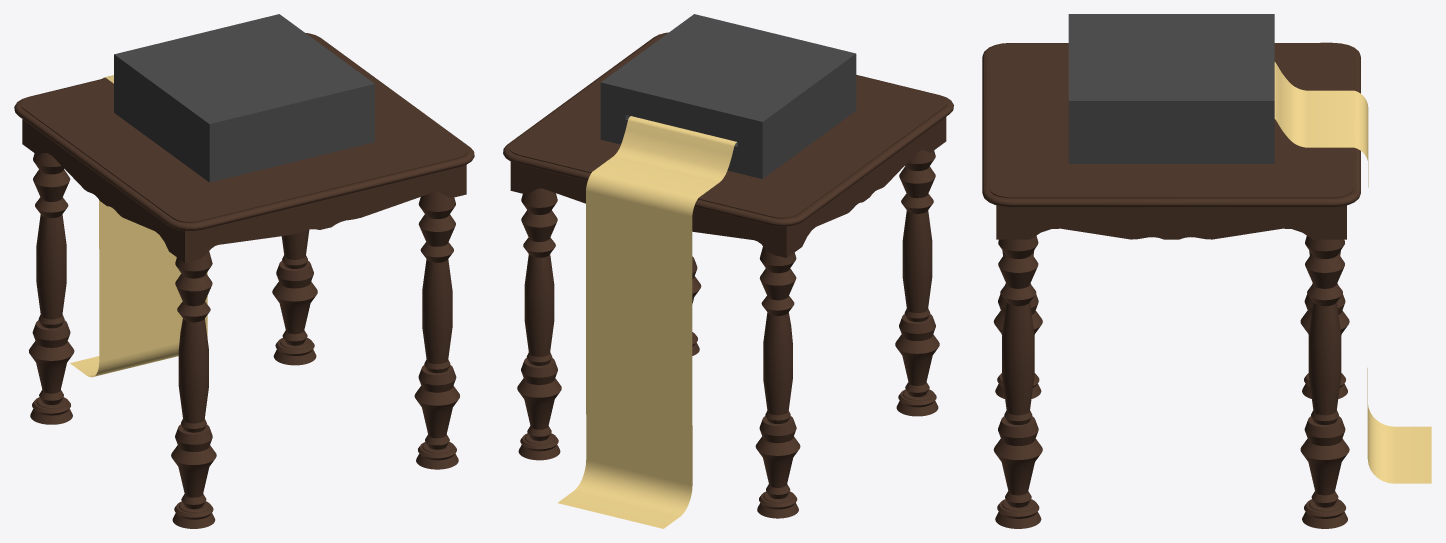
The model's file is SM_ChildList.glb.
3 renders of one model, left to right at view 1: azimuth 30°, elevation 25°; view 2: azimuth 150°, elevation 25°; view 3: azimuth 270°, elevation 25°, orthographic. The views are drawn at different scales.
Visible parts, largest first — view 1: SM_BookPedestal.001; view 2: SM_BookPedestal.001; view 3: SM_BookPedestal.001.
Boxes of the visible parts, x1,y1,x2,y2 form: SM_BookPedestal.001: [14, 14, 474, 528]; SM_BookPedestal.001: [503, 14, 953, 528]; SM_BookPedestal.001: [982, 14, 1431, 528].
Bounding box in the file's own units: 0.9195 × 1.07 × 1.09.
